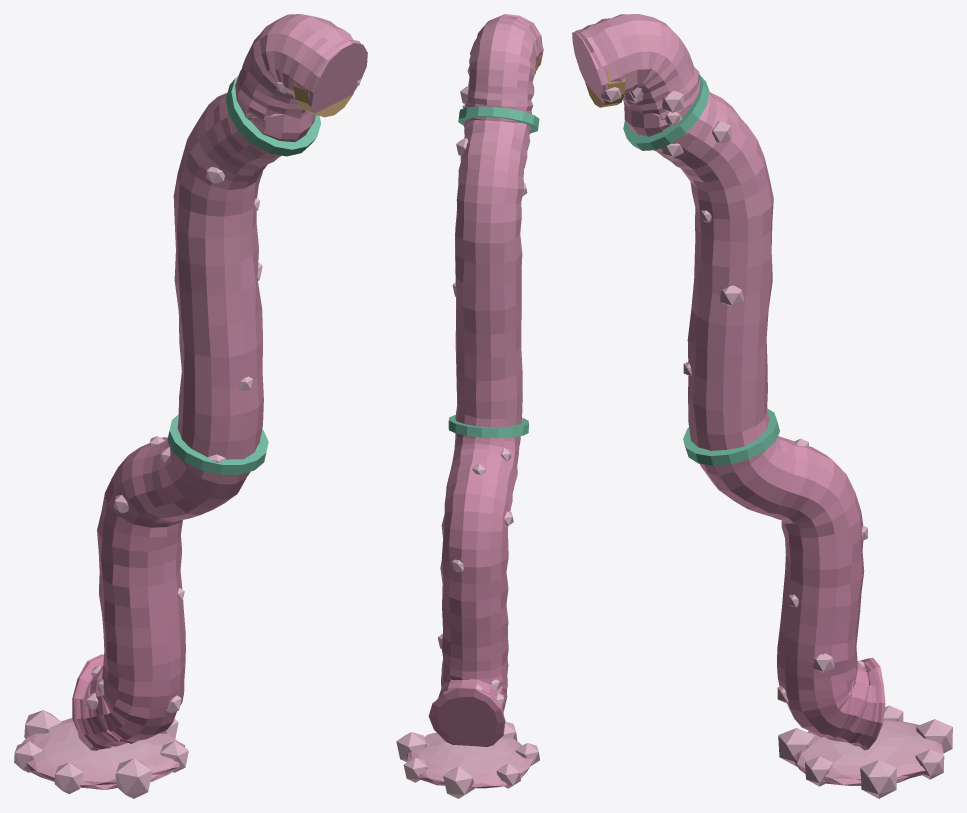
The model's file is goo_drop_tube_goo_3@candy.fbx.
The picture shows the model from 3 angles, left to right: view 1: azimuth 30°, elevation 25°; view 2: azimuth 150°, elevation 25°; view 3: azimuth 270°, elevation 25°; orthographic projection. The views are drawn at different scales.
Parts seen in each view (by area): view 1: goo_drop_tube_goo_3; view 2: goo_drop_tube_goo_3; view 3: goo_drop_tube_goo_3.
Part boxes in pixels (x1,y1,x2,y2): goo_drop_tube_goo_3: [14, 14, 367, 798]; goo_drop_tube_goo_3: [396, 14, 543, 798]; goo_drop_tube_goo_3: [572, 14, 952, 798].
Size of the model in its own units: 9.68 by 37.69 by 16.49.
